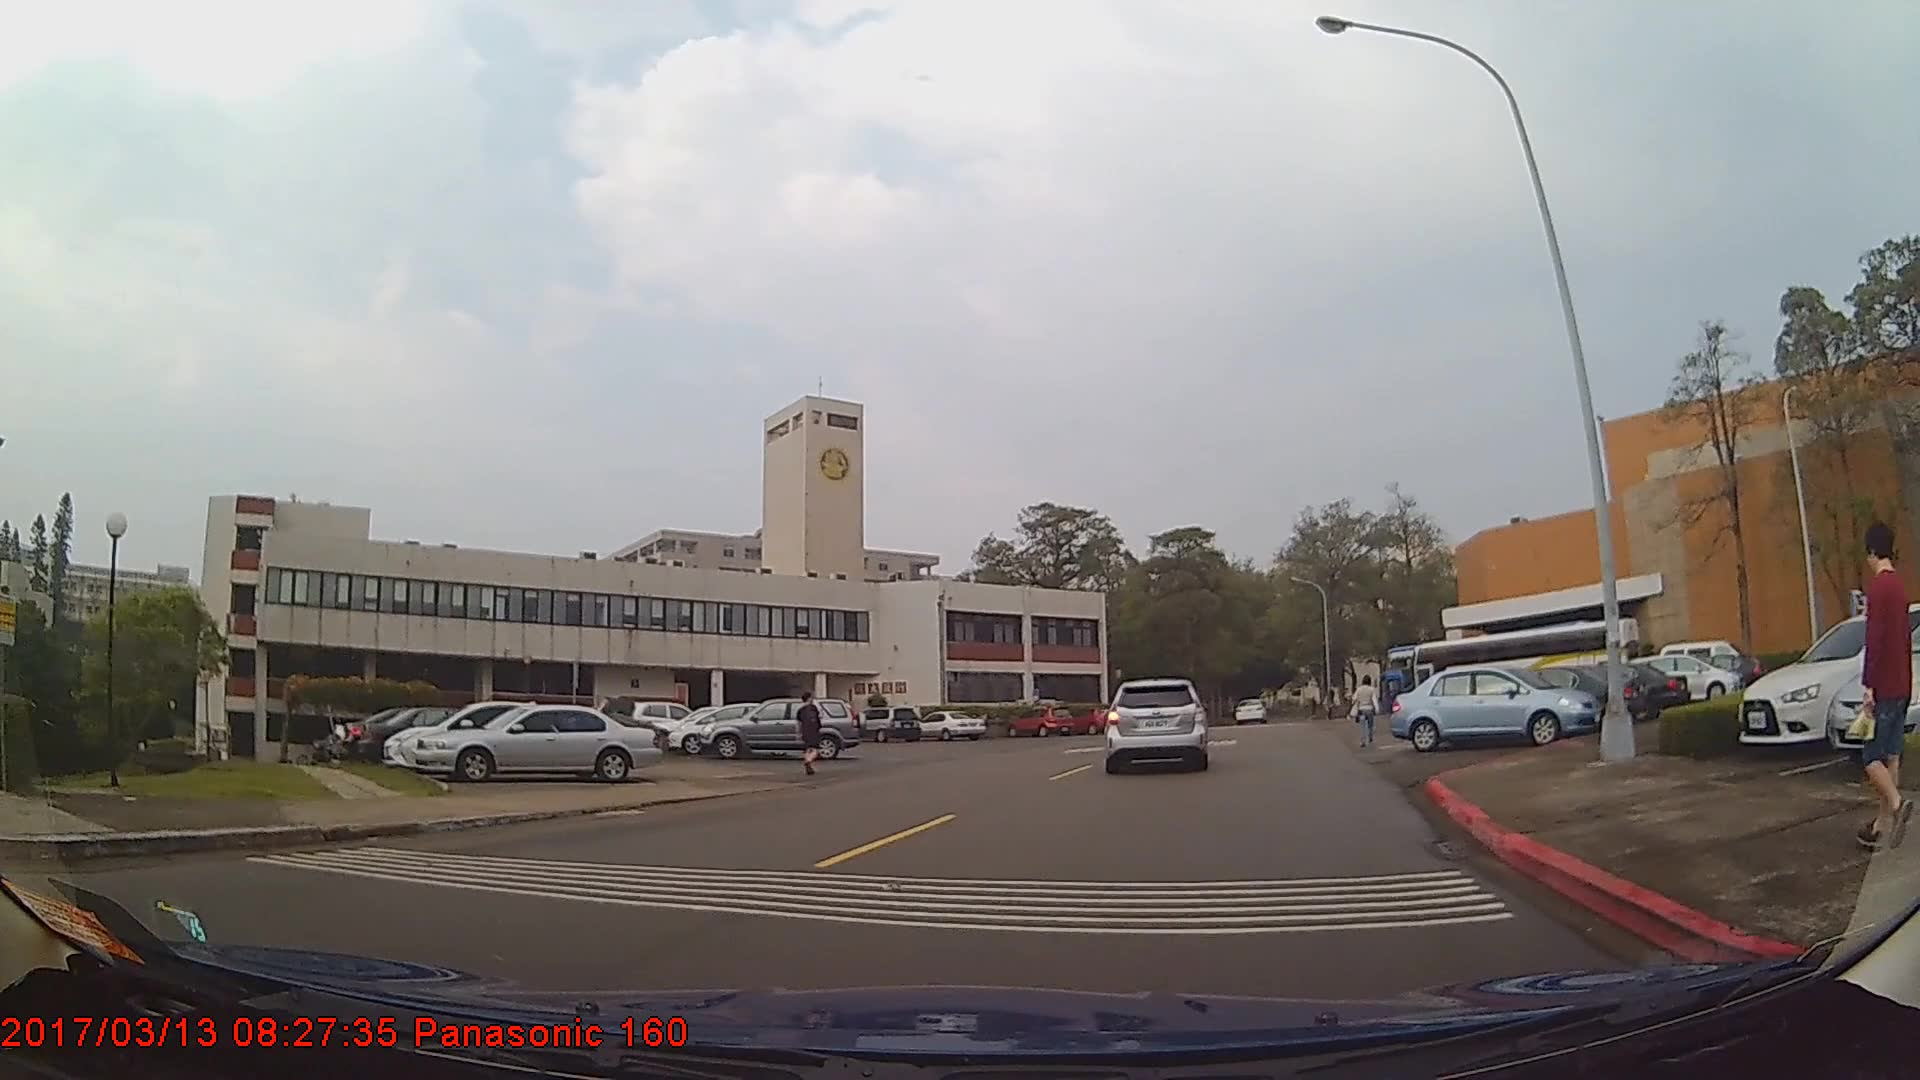pedestrian: (1847, 526, 1916, 850), (794, 690, 826, 775), (1351, 674, 1380, 746)
vehicle: (1734, 604, 1920, 745), (412, 701, 663, 780), (1388, 663, 1602, 749), (374, 698, 594, 772), (1456, 666, 1645, 730), (699, 698, 864, 763), (357, 704, 528, 766), (1106, 678, 1207, 774), (1529, 662, 1688, 716), (666, 700, 801, 754), (1624, 652, 1742, 704), (630, 701, 705, 742), (1003, 704, 1074, 740), (856, 705, 921, 744), (915, 711, 985, 742), (1233, 696, 1267, 726)
